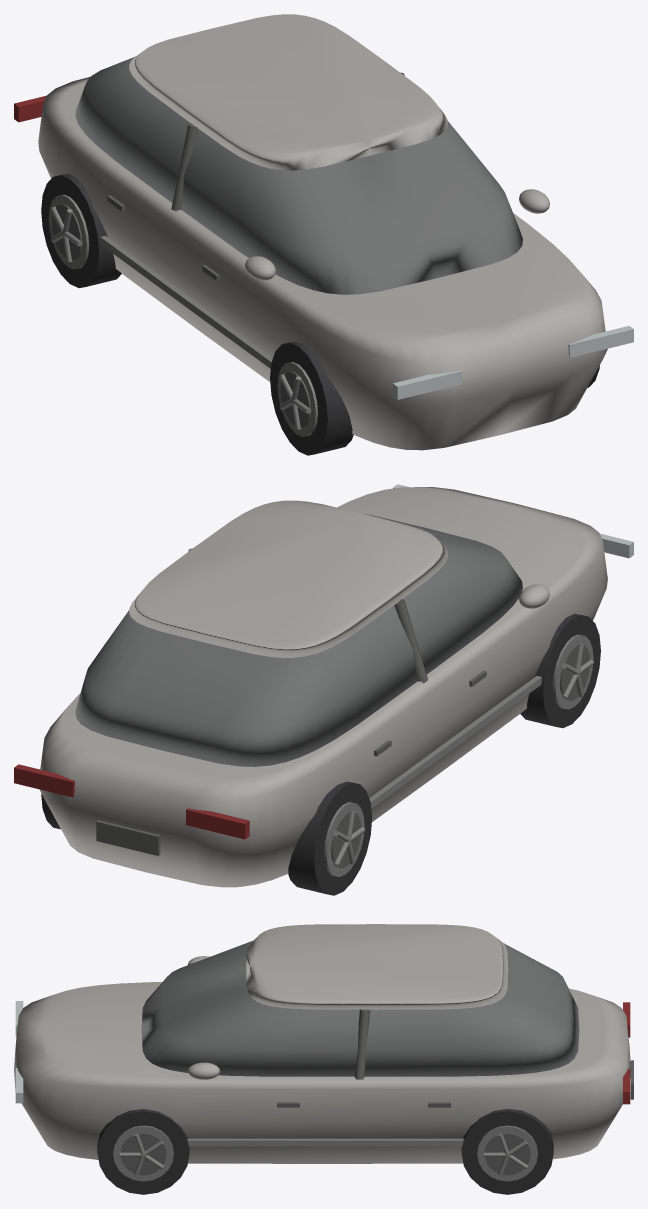
File: road-models-v1.glb
3 renders of one model, top to bottom at view 1: azimuth 30°, elevation 25°; view 2: azimuth 150°, elevation 25°; view 3: azimuth 270°, elevation 25°, orthographic. The views are drawn at different scales.
Visible parts, largest first — view 1: sedan_lod0; view 2: sedan_lod0; view 3: sedan_lod0.
Part boxes in pixels (<box>): sedan_lod0: <box>14,14,633,455</box>; sedan_lod0: <box>14,484,633,895</box>; sedan_lod0: <box>14,924,633,1194</box>.
Bounding box in the file's own units: 2.02 × 1.47 × 4.57.
